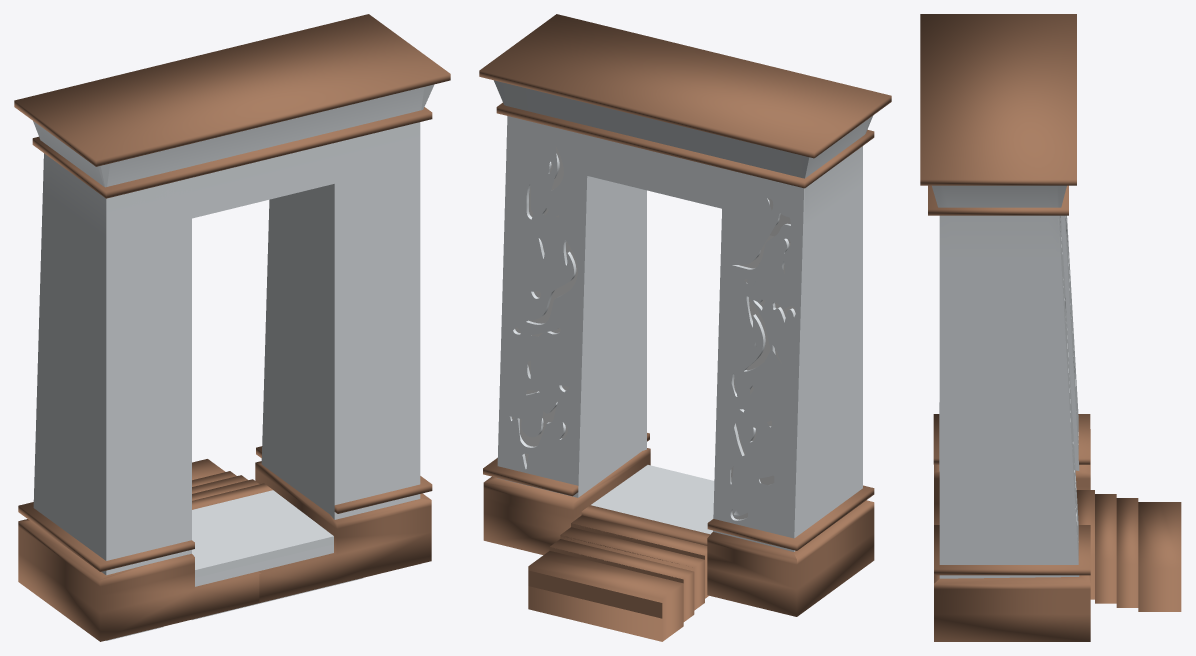
The model's file is Main Door.fbx.
3 views of the same model, side by side, from view 1: azimuth 30°, elevation 25°; view 2: azimuth 150°, elevation 25°; view 3: azimuth 270°, elevation 25° (orthographic). The views are drawn at different scales.
Parts seen in each view (by area): view 1: Main_Door, Stair_Main_Door; view 2: Main_Door, Stair_Main_Door; view 3: Stair_Main_Door, Main_Door.
Part boxes in pixels (box(x1,y1,x2,y2)): Main_Door: box(33, 84, 434, 640); Stair_Main_Door: box(14, 14, 450, 641); Main_Door: box(494, 80, 873, 551); Stair_Main_Door: box(479, 14, 891, 641); Stair_Main_Door: box(920, 14, 1181, 641); Main_Door: box(932, 185, 1079, 578).
Bounding box in the file's own units: 5000 × 6793 × 3337.
